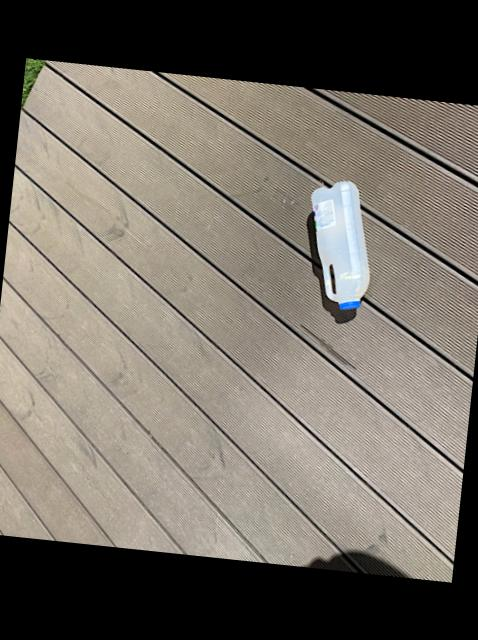plastic: (310, 181, 368, 309)
